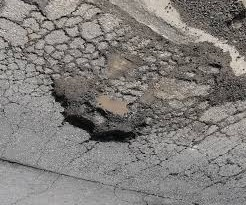pothole: (46, 27, 239, 158)
